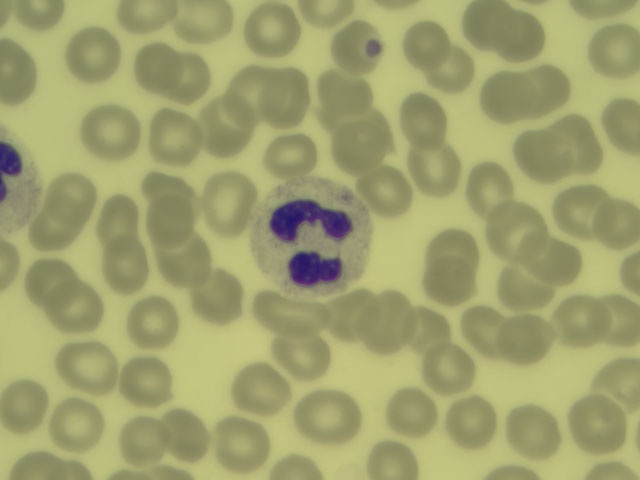Platelets: (332, 114, 389, 172), (491, 202, 546, 262), (548, 116, 606, 172), (203, 173, 252, 236), (232, 363, 293, 413), (570, 398, 627, 450), (364, 291, 411, 353), (246, 2, 300, 55), (197, 98, 251, 151), (83, 107, 141, 156), (297, 393, 361, 437), (254, 294, 327, 332), (505, 404, 559, 455), (223, 67, 278, 115), (499, 265, 557, 310), (54, 282, 106, 332), (412, 145, 461, 197), (273, 334, 333, 376), (119, 357, 171, 405), (461, 304, 512, 352), (55, 397, 102, 449), (197, 272, 246, 321), (69, 28, 117, 78), (557, 187, 605, 237), (151, 112, 198, 163), (587, 26, 638, 73), (517, 127, 563, 179), (601, 291, 640, 352), (427, 340, 473, 391), (133, 296, 178, 348), (262, 136, 320, 176), (60, 348, 116, 389), (214, 420, 265, 465), (427, 259, 478, 304), (103, 242, 147, 294), (162, 410, 211, 456), (401, 97, 450, 143), (594, 199, 640, 248), (401, 306, 446, 356), (448, 397, 492, 448), (178, 1, 232, 42), (523, 240, 581, 277), (135, 43, 181, 89), (1, 39, 34, 103), (557, 297, 600, 345), (369, 169, 411, 218), (369, 443, 424, 480), (601, 95, 640, 147), (26, 259, 73, 302), (465, 2, 512, 45), (49, 175, 97, 217), (159, 243, 209, 283), (148, 195, 192, 240), (470, 164, 513, 210), (268, 71, 306, 122), (3, 380, 46, 425), (406, 20, 449, 65), (482, 74, 527, 117), (598, 359, 640, 405), (35, 207, 81, 248), (503, 317, 549, 358), (124, 416, 165, 461), (389, 393, 435, 432), (330, 295, 373, 336), (529, 70, 576, 107), (100, 195, 138, 240), (429, 48, 470, 89), (116, 1, 174, 29), (322, 73, 368, 108), (172, 54, 209, 97), (502, 12, 538, 55), (431, 229, 472, 264), (15, 1, 72, 25), (270, 453, 324, 478), (12, 455, 62, 480), (569, 1, 640, 18), (141, 172, 190, 196), (304, 1, 351, 22), (487, 464, 541, 480), (622, 251, 640, 299), (1, 240, 17, 288)
RBC: (259, 182, 369, 290), (1, 124, 32, 229)
WBC: (360, 35, 390, 60)
